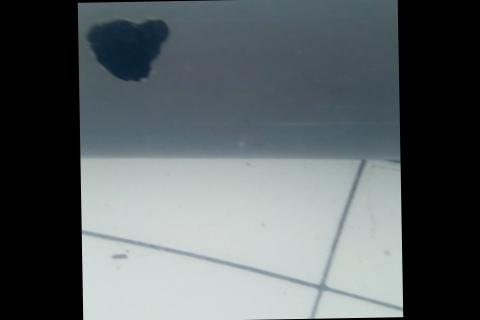kebocoran: (83, 15, 172, 83)
